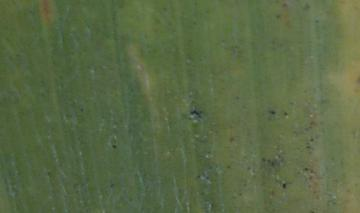tarspot: (188, 107, 203, 120), (260, 156, 276, 167), (301, 1, 311, 12), (273, 12, 282, 21), (280, 2, 290, 10), (227, 135, 235, 145), (78, 105, 85, 114), (282, 109, 289, 118), (280, 182, 287, 190), (268, 109, 277, 115), (110, 143, 118, 149), (313, 17, 321, 23), (308, 135, 314, 143), (303, 166, 309, 172), (308, 209, 316, 213)
